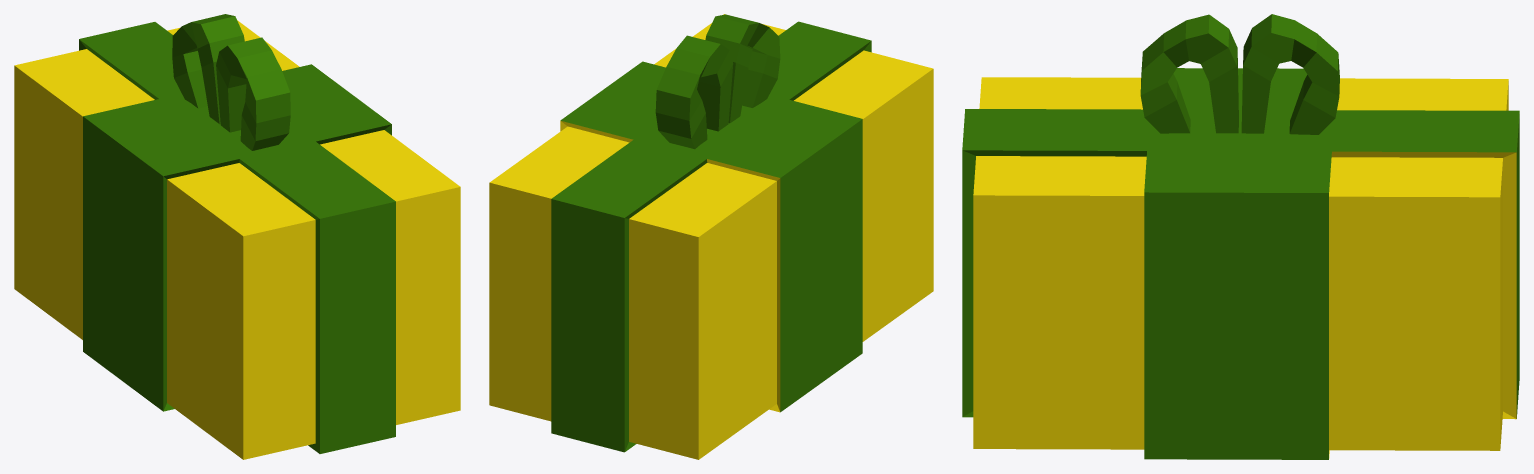
Rendered from darcek3.fbx.
3 views of the same model, side by side, from view 1: azimuth 30°, elevation 25°; view 2: azimuth 150°, elevation 25°; view 3: azimuth 270°, elevation 25° (orthographic). The views are drawn at different scales.
Parts seen in each view (by area): view 1: darcek3; view 2: darcek3; view 3: darcek3.
Boxes of the visible parts, x1,y1,x2,y2 form: darcek3: (14,14,460,459); darcek3: (489,14,933,459); darcek3: (962,14,1519,459).
Size of the model in its own units: 118 by 163 by 222.
